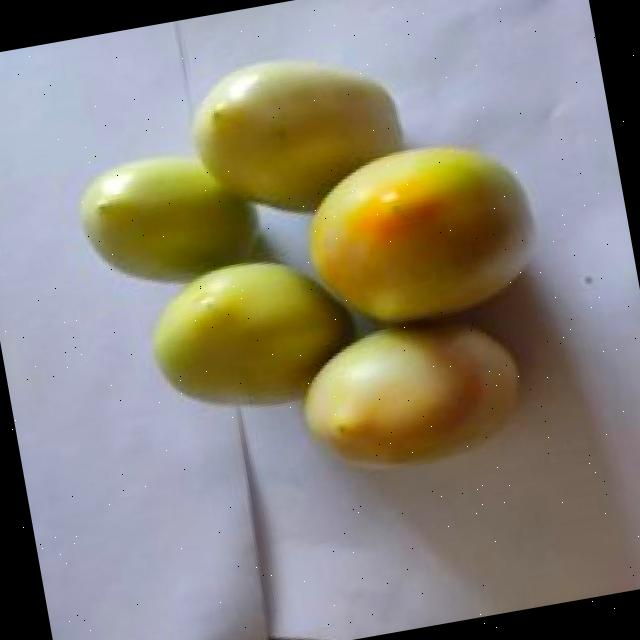tomato: (308, 143, 534, 320), (187, 58, 410, 217), (296, 322, 518, 467), (147, 259, 352, 406), (75, 150, 261, 288)
